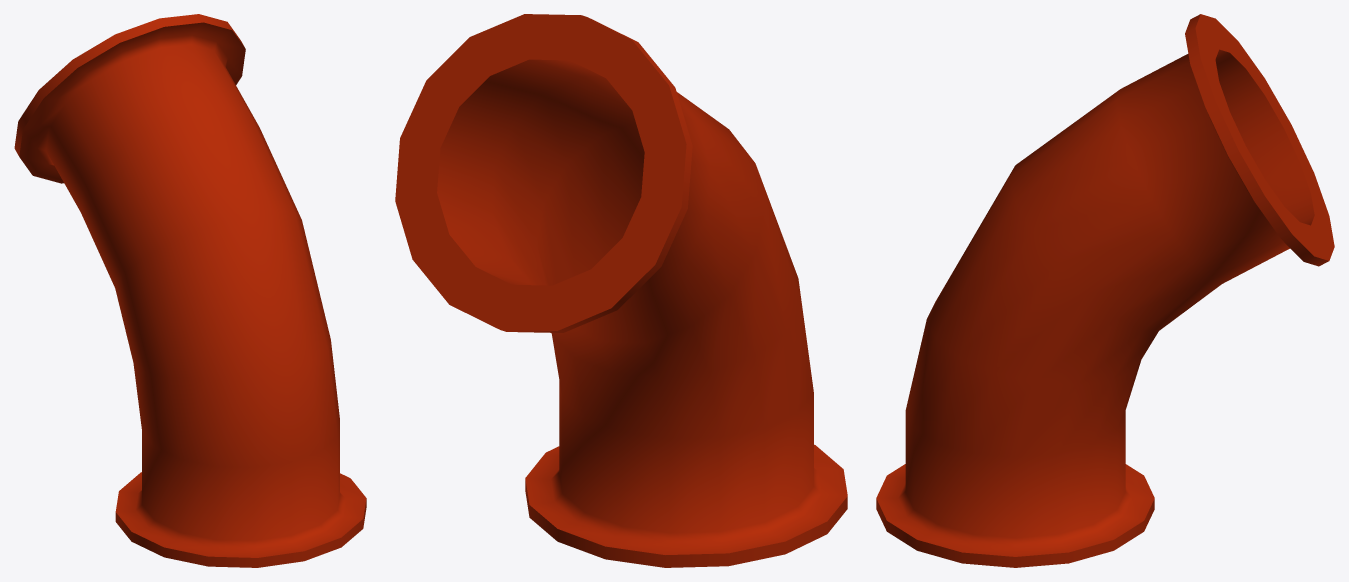
File: sPipeC60_10.FBX
3 views of the same model, side by side, from view 1: azimuth 30°, elevation 25°; view 2: azimuth 150°, elevation 25°; view 3: azimuth 270°, elevation 25° (orthographic). The views are drawn at different scales.
Parts seen in each view (by area): view 1: Pipe_up1_010_Low005; view 2: Pipe_up1_010_Low005; view 3: Pipe_up1_010_Low005.
Part boxes in pixels (box(x1,y1,x2,y2)): Pipe_up1_010_Low005: box(14, 14, 366, 567); Pipe_up1_010_Low005: box(395, 14, 847, 567); Pipe_up1_010_Low005: box(876, 14, 1334, 567).
Bounding box in the file's own units: 19 × 36.19 × 31.27.
